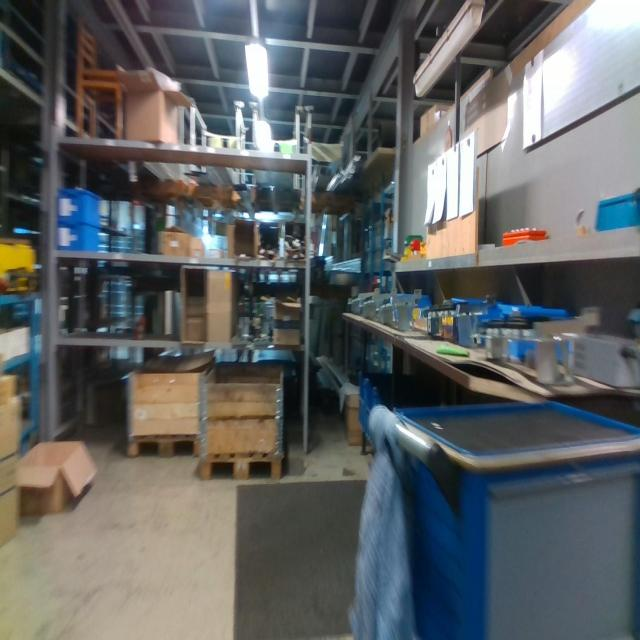pallet: (201, 451, 284, 482), (126, 432, 203, 461)
small_load_carrier: (369, 385, 431, 412), (59, 185, 101, 223), (56, 223, 101, 256), (358, 372, 367, 431)
